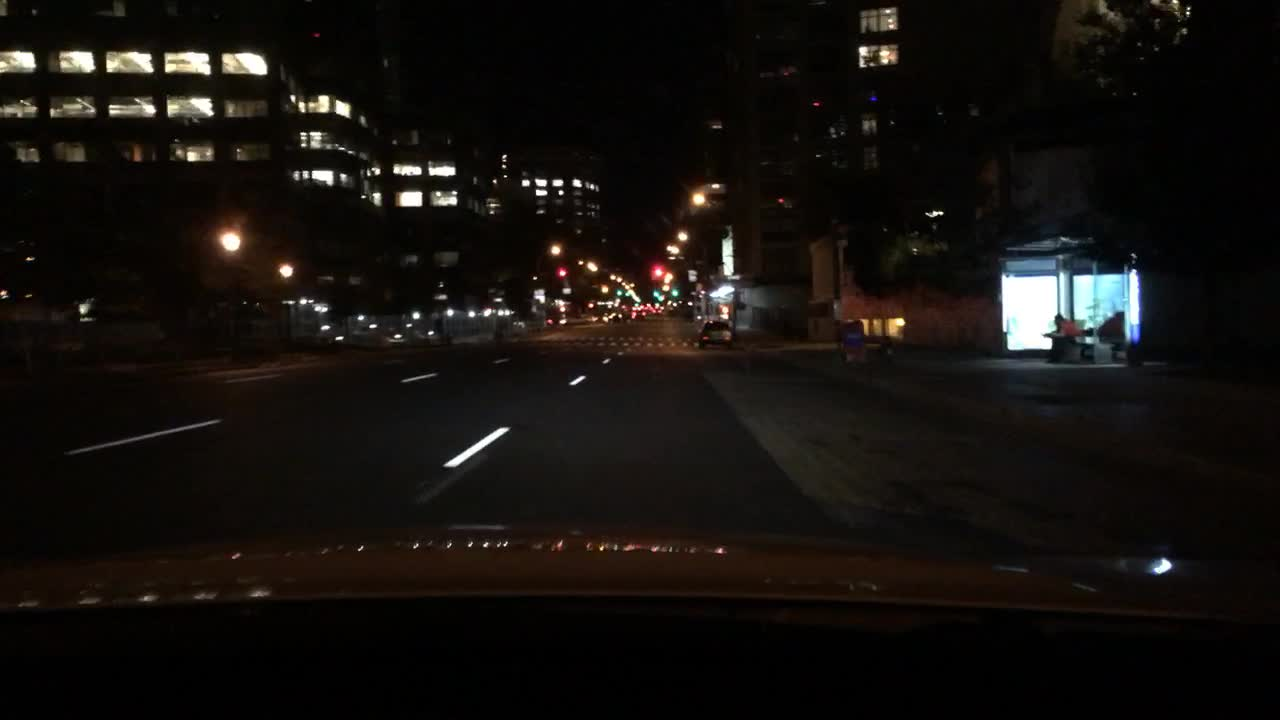car: (697, 318, 735, 347), (544, 309, 573, 331), (590, 302, 619, 323), (627, 305, 646, 321), (648, 305, 668, 320), (617, 302, 630, 322)
person: (1097, 306, 1125, 362), (1047, 315, 1075, 341)
traffic light: (776, 193, 794, 212), (553, 267, 570, 278), (649, 288, 664, 297), (668, 285, 679, 297), (613, 288, 625, 297), (654, 265, 662, 278)
